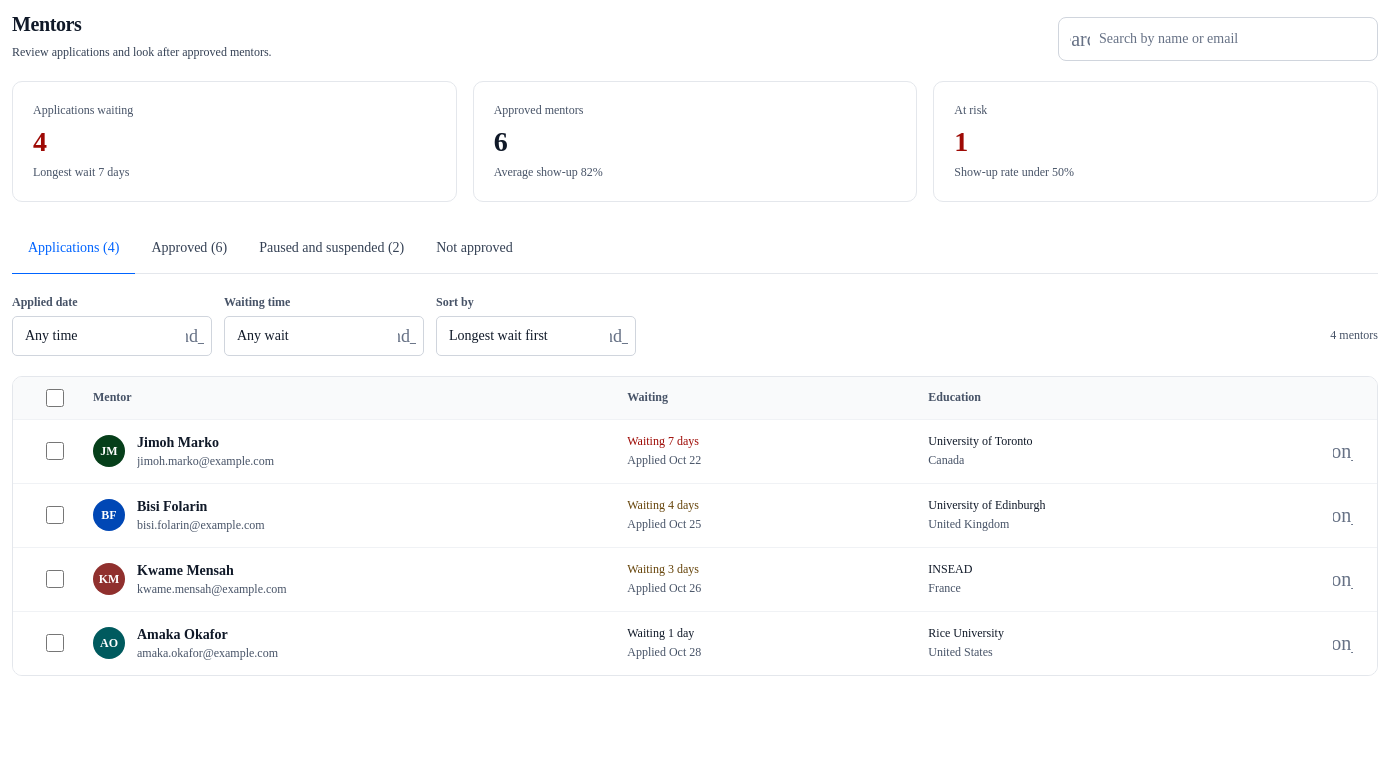
Test case: AdminMentorsScreen: the list › paused rows give the admin reason, or say the mentor paused themselves
Click the tab "Paused and suspended (2)".
click(332, 248)  # box [243, 222, 420, 274]
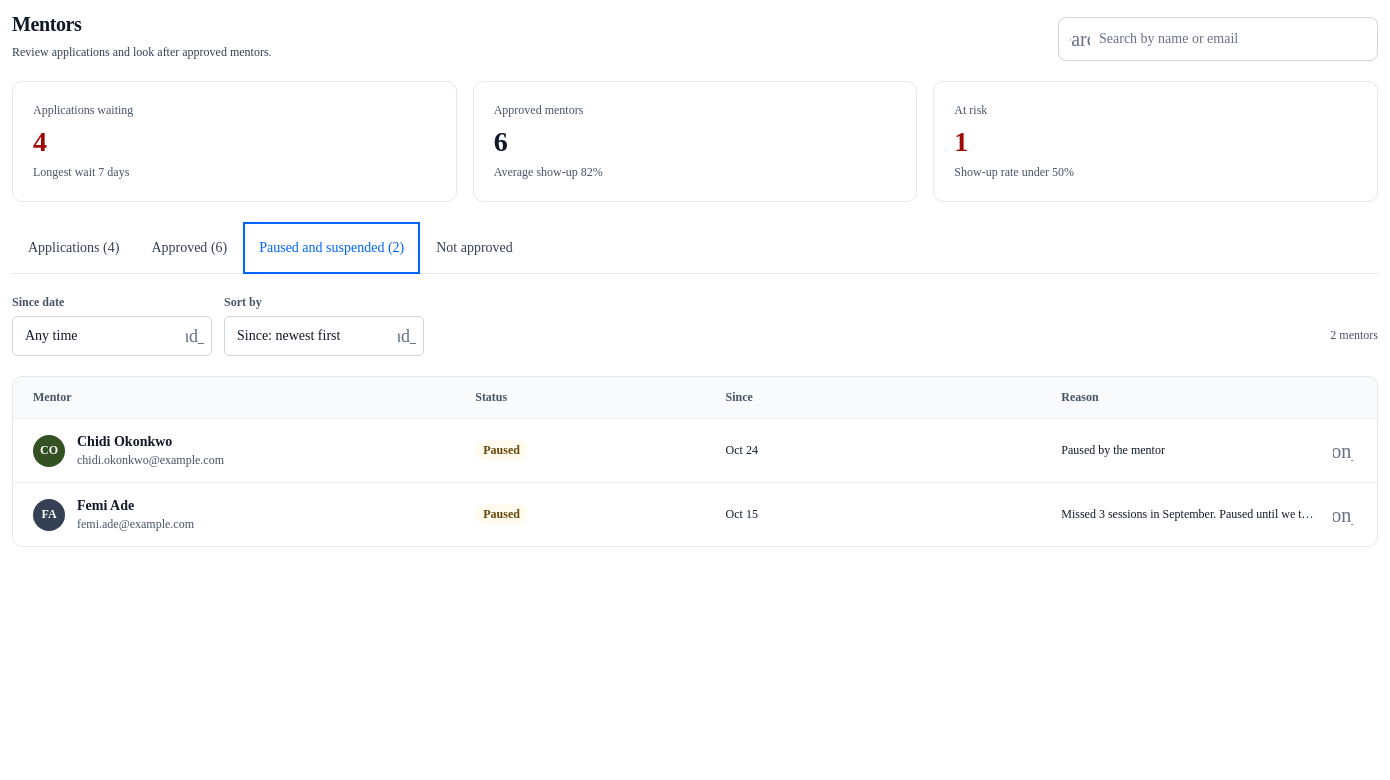
Expected: the button with aria-label "Open Chidi Okonkwo" is shown, [77, 432, 224, 452]
Expected: the text "Paused by the mentor" is shown, [1061, 442, 1165, 459]
Expected: the text "Missed 3 sessions in September. Paused until we talk." is shown, [1061, 506, 1317, 523]
